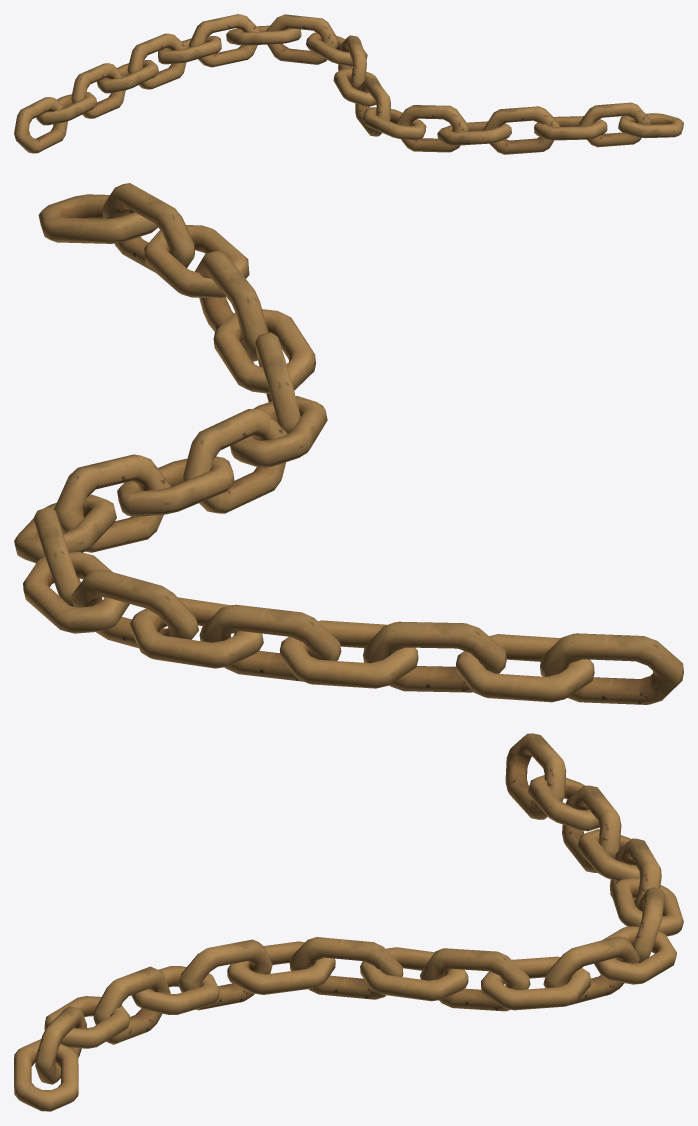
The picture shows the model from 3 angles, top to bottom: view 1: azimuth 30°, elevation 25°; view 2: azimuth 150°, elevation 25°; view 3: azimuth 270°, elevation 25°; orthographic projection. The views are drawn at different scales.
Visible parts, largest first — view 1: SM_Dragonkin_Chain_Cage_03_LOD0; view 2: SM_Dragonkin_Chain_Cage_03_LOD0; view 3: SM_Dragonkin_Chain_Cage_03_LOD0.
Part boxes in pixels (bbox=[...]): SM_Dragonkin_Chain_Cage_03_LOD0: bbox=[14, 14, 683, 154]; SM_Dragonkin_Chain_Cage_03_LOD0: bbox=[14, 183, 683, 704]; SM_Dragonkin_Chain_Cage_03_LOD0: bbox=[14, 733, 683, 1111].
Size of the model in its own units: 4.05 by 0.4498 by 3.15.
1 material, 1 textured.
